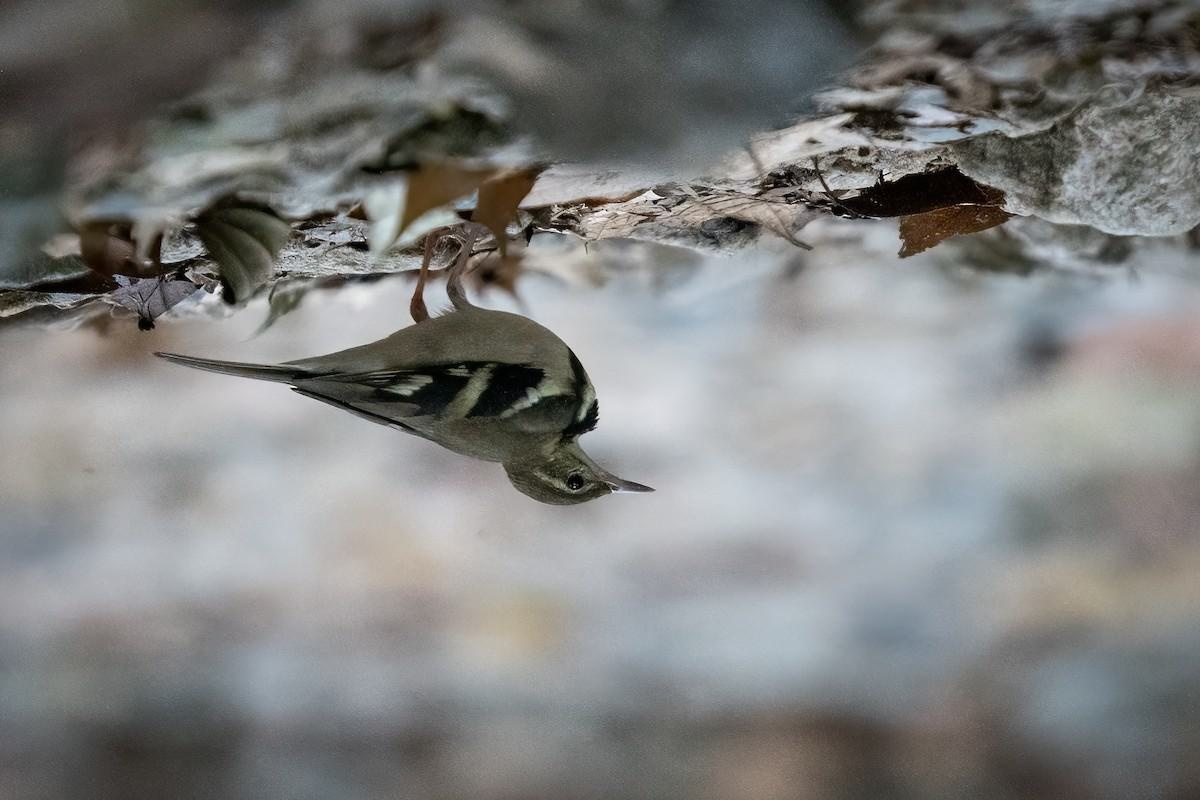wagtail: (257, 243, 676, 530)
